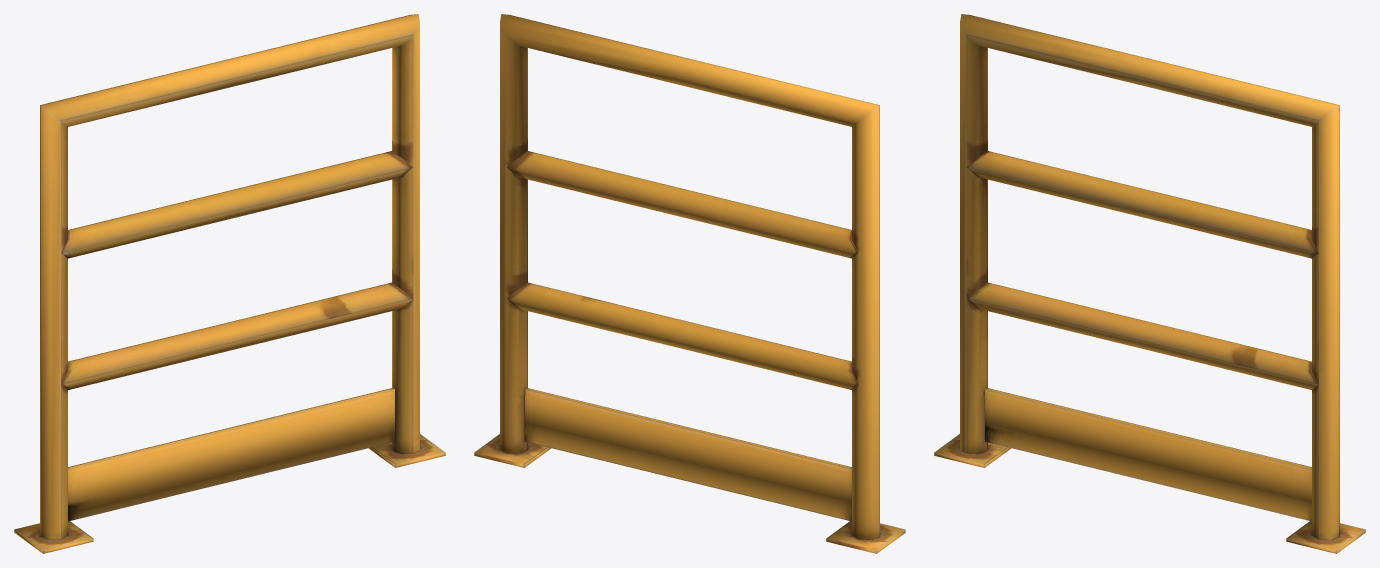
3 renders of one model, left to right at view 1: azimuth 30°, elevation 25°; view 2: azimuth 150°, elevation 25°; view 3: azimuth 330°, elevation 25°, orthographic.
Parts seen in each view (by area): view 1: body0_model0_lod0_mesh0; view 2: body0_model0_lod0_mesh0; view 3: body0_model0_lod0_mesh0.
Part boxes in pixels (box(x1,y1,x2,y2)): body0_model0_lod0_mesh0: box(14, 14, 445, 553); body0_model0_lod0_mesh0: box(474, 14, 905, 553); body0_model0_lod0_mesh0: box(934, 14, 1365, 553).
Size of the model in its own units: 32 by 33 by 4.
Materials: 1 (1 with a texture image).
